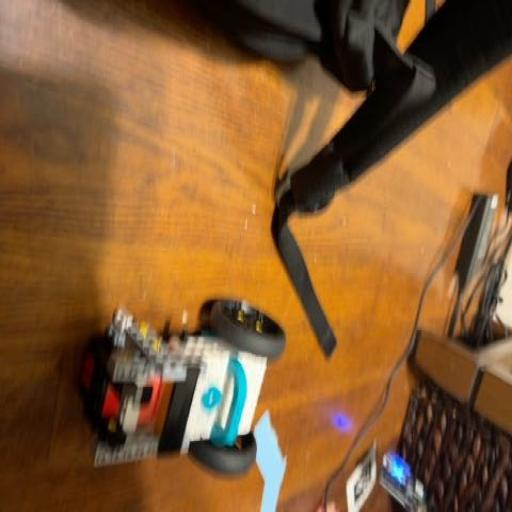Opponent: (79, 292, 289, 485)
